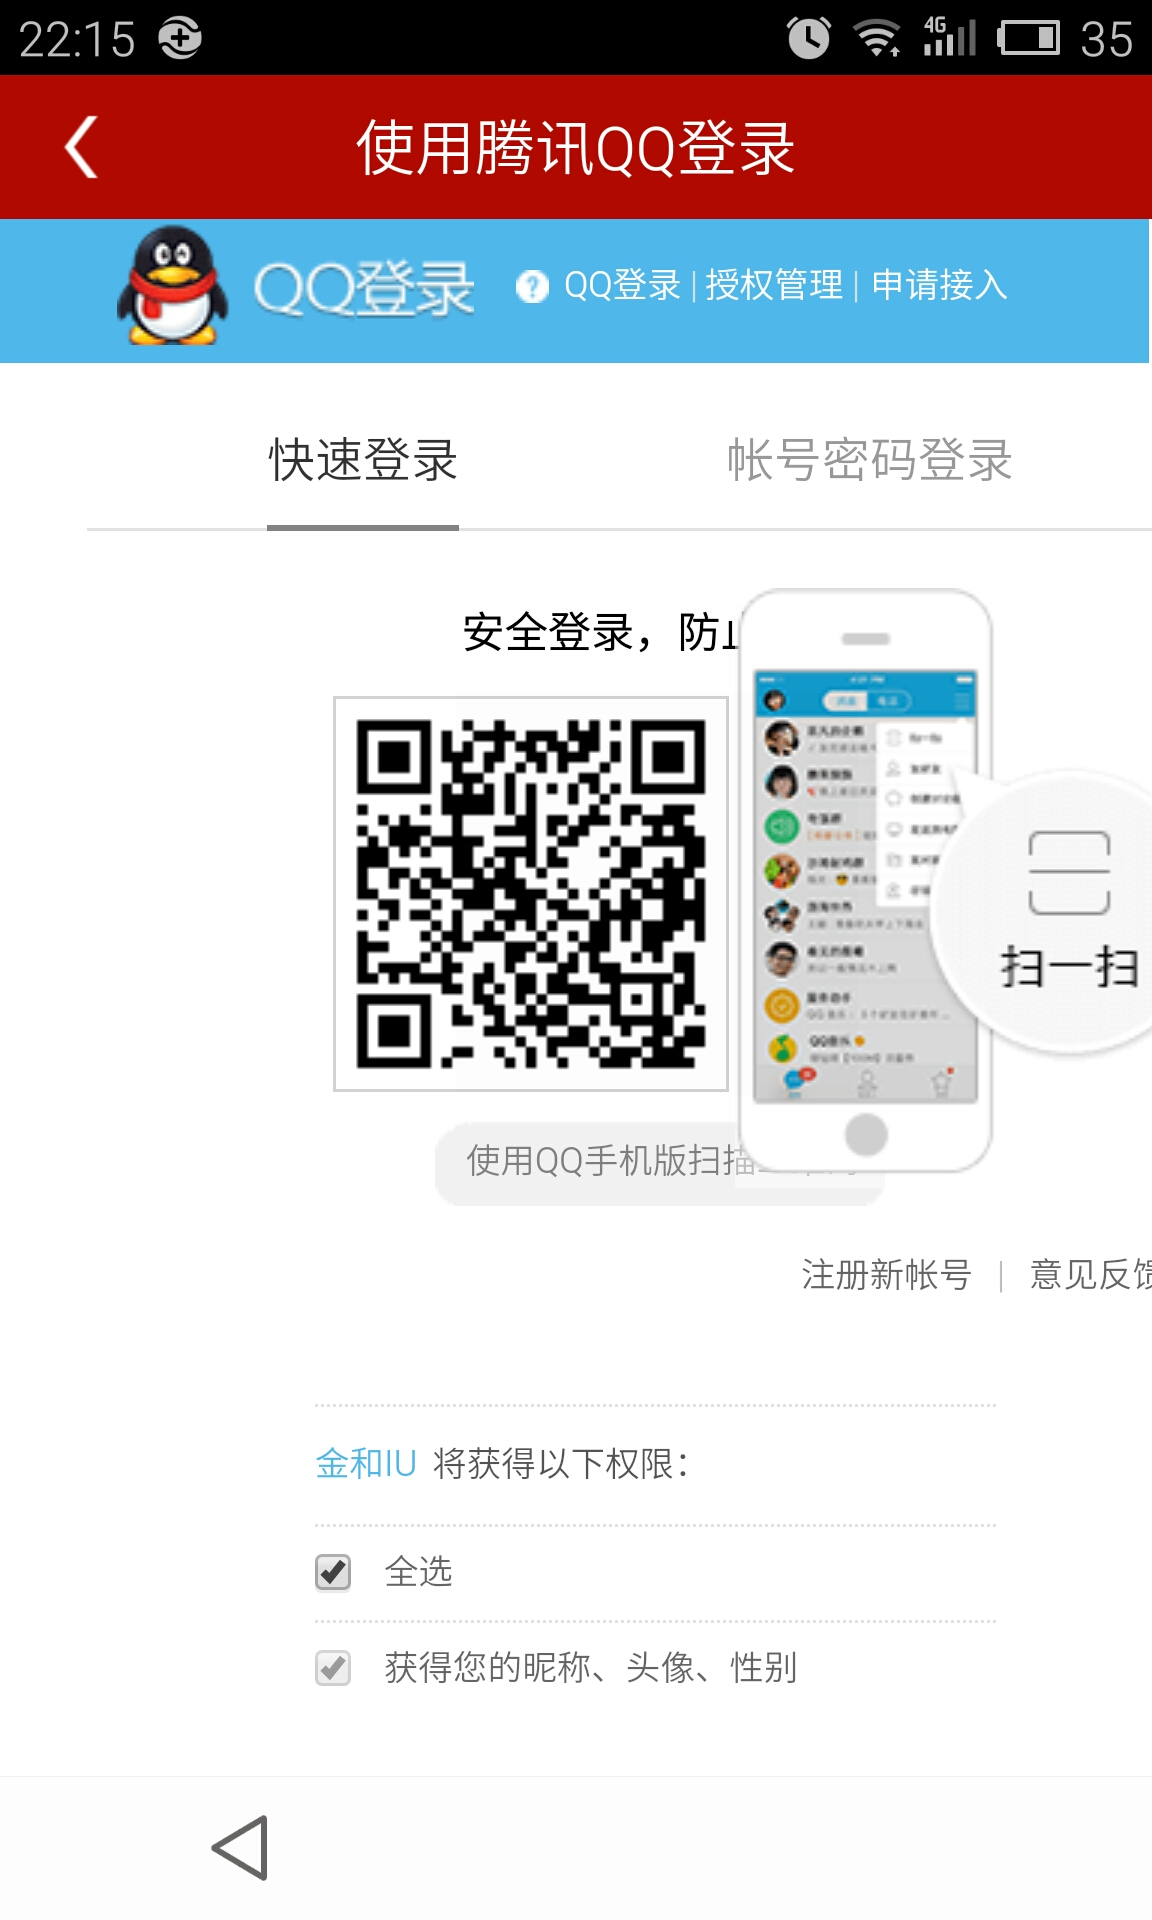checkbox: (293, 1631, 837, 1712), (292, 1539, 528, 1611)
imgview: (320, 682, 734, 1101)
nav: (25, 372, 1067, 540)
textview: (19, 222, 1136, 351)
